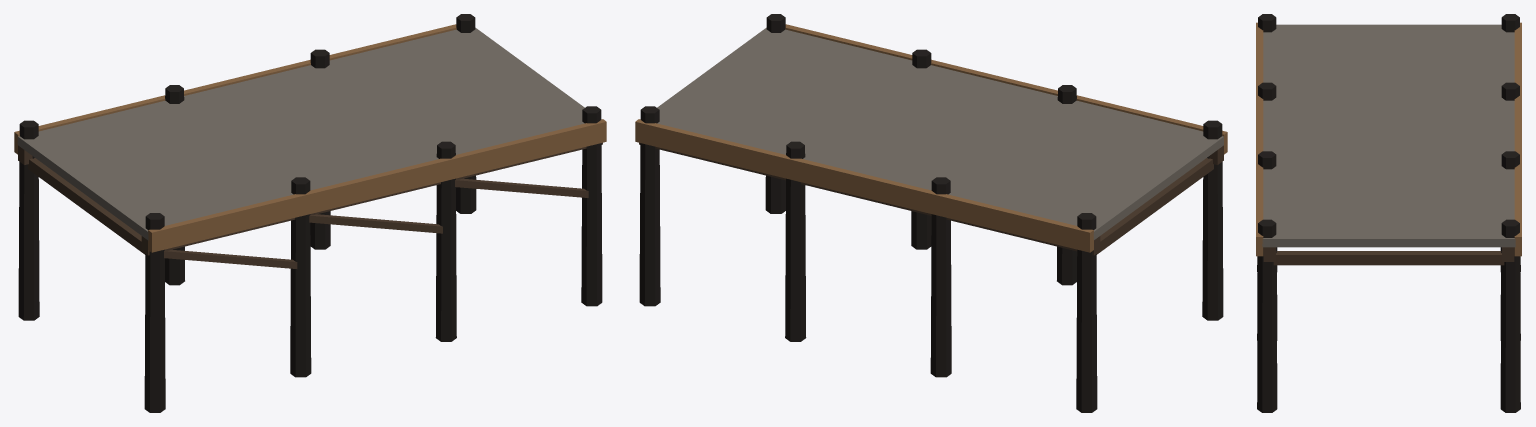
The model's file is pier_main_10m.glb.
The picture shows the model from 3 angles, left to right: view 1: azimuth 30°, elevation 25°; view 2: azimuth 150°, elevation 25°; view 3: azimuth 270°, elevation 25°; orthographic projection. The views are drawn at different scales.
Parts seen in each view (by area): view 1: pier_main_10m_deck_x, pier_main_10m_piles, pier_main_10m_rubrail, pier_main_10m_frame; view 2: pier_main_10m_deck_x, pier_main_10m_piles, pier_main_10m_rubrail, pier_main_10m_frame; view 3: pier_main_10m_deck_x, pier_main_10m_piles, pier_main_10m_frame, pier_main_10m_rubrail.
Boxes of the visible parts, x1=… form: pier_main_10m_deck_x: x1=17, y1=27, x2=584, y2=240; pier_main_10m_piles: x1=18, y1=14, x2=602, y2=412; pier_main_10m_rubrail: x1=14, y1=24, x2=606, y2=252; pier_main_10m_frame: x1=18, y1=142, x2=602, y2=268; pier_main_10m_deck_x: x1=657, y1=27, x2=1223, y2=239; pier_main_10m_piles: x1=639, y1=14, x2=1223, y2=412; pier_main_10m_rubrail: x1=635, y1=24, x2=1227, y2=252; pier_main_10m_frame: x1=639, y1=142, x2=1223, y2=255; pier_main_10m_deck_x: x1=1262, y1=24, x2=1515, y2=247; pier_main_10m_piles: x1=1257, y1=14, x2=1520, y2=412; pier_main_10m_frame: x1=1263, y1=247, x2=1514, y2=265; pier_main_10m_rubrail: x1=1256, y1=22, x2=1521, y2=256.
Size of the model in its own units: 10 by 4.05 by 5.24.
